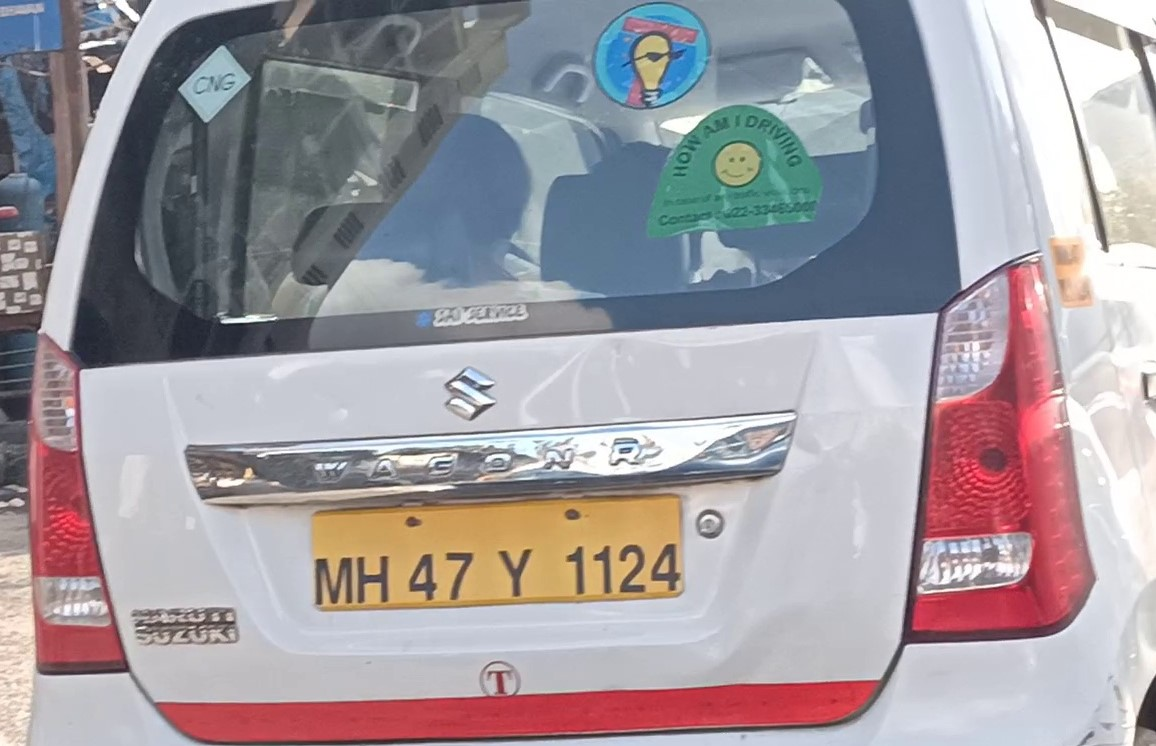MH47Y1124: (311, 493, 686, 612)
